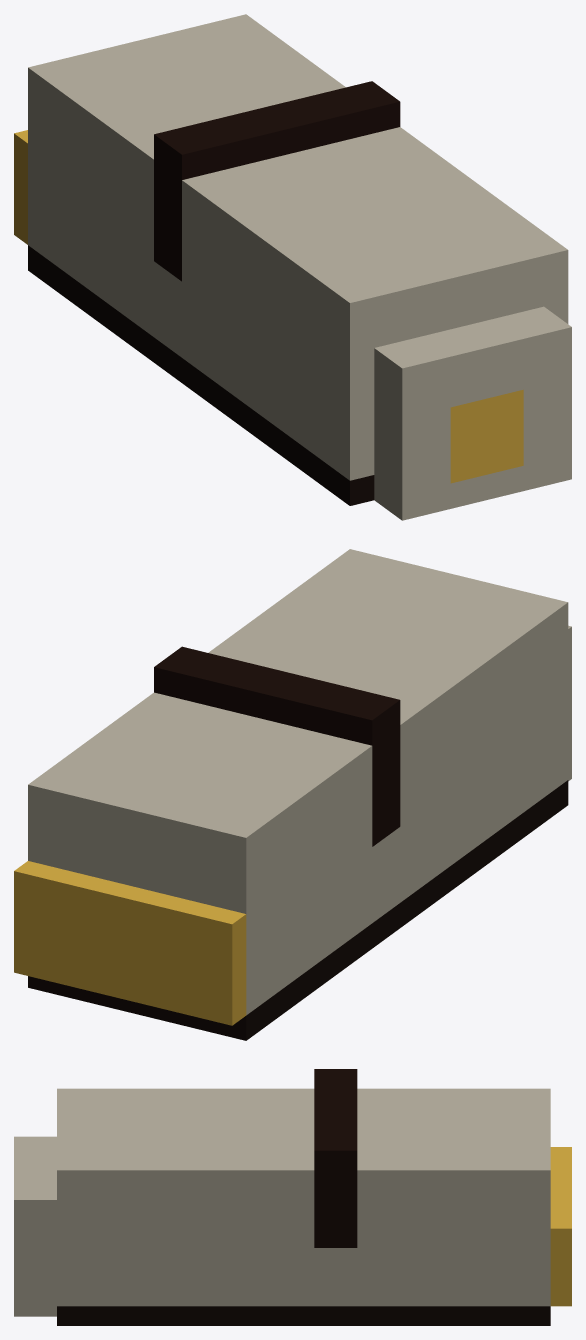
The model's file is cloth_legendary_boot_foot_L.glb.
The picture shows the model from 3 angles, top to bottom: view 1: azimuth 30°, elevation 25°; view 2: azimuth 150°, elevation 25°; view 3: azimuth 270°, elevation 25°; orthographic projection. The views are drawn at different scales.
Parts seen in each view (by area): view 1: cloth_legendary_boot_foot_L; view 2: cloth_legendary_boot_foot_L; view 3: cloth_legendary_boot_foot_L.
Part boxes in pixels (bbox=[...]): cloth_legendary_boot_foot_L: bbox=[14, 14, 571, 520]; cloth_legendary_boot_foot_L: bbox=[14, 549, 571, 1040]; cloth_legendary_boot_foot_L: bbox=[14, 1069, 571, 1325].
Bounding box in the file's own units: 0.108 × 0.108 × 0.312.
